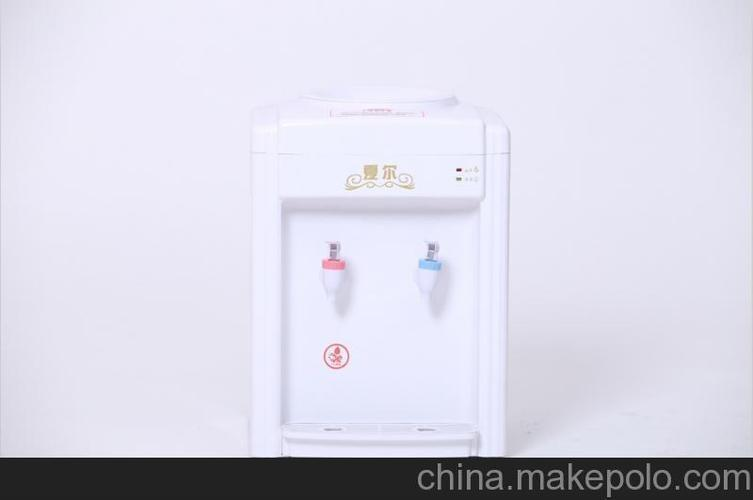Dispenser: (249, 87, 507, 456)
